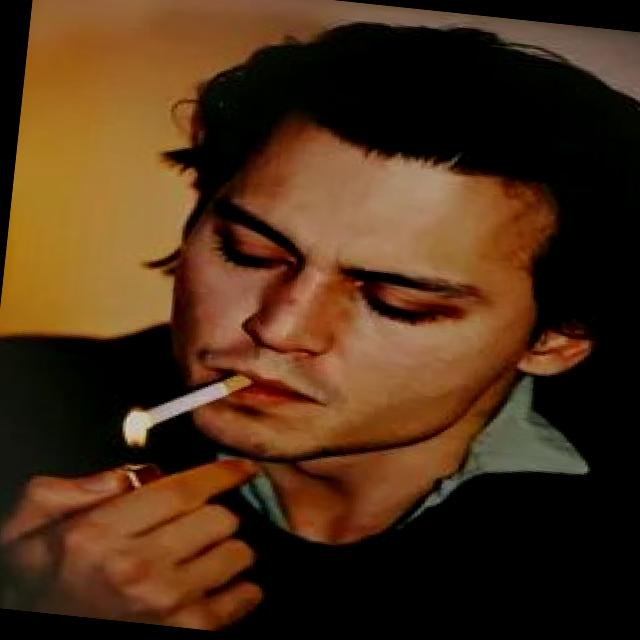smoke: (122, 358, 264, 452)
